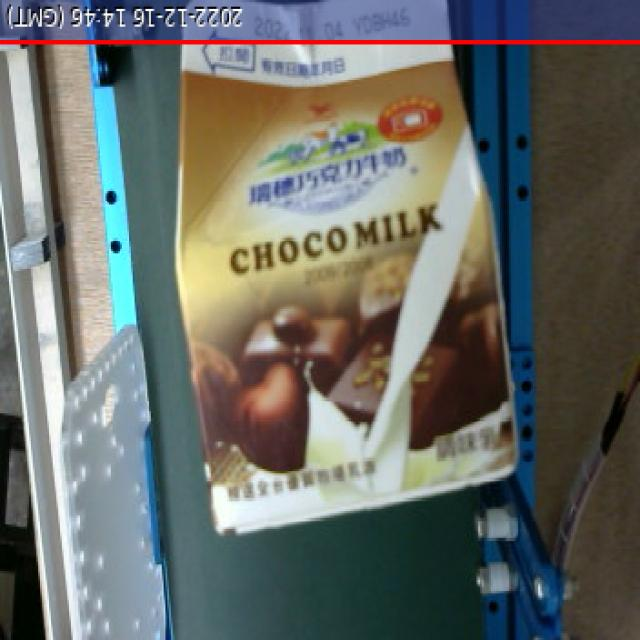non_white_jug: (154, 0, 540, 565)
